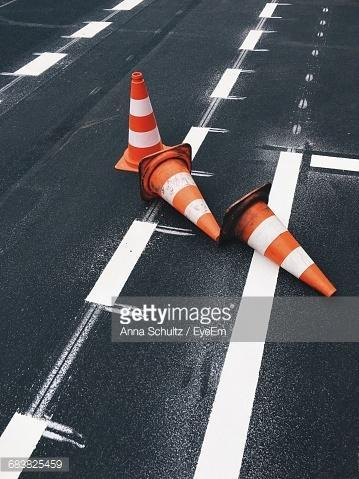Cone: (219, 182, 340, 296), (136, 144, 220, 241), (114, 72, 193, 173)
